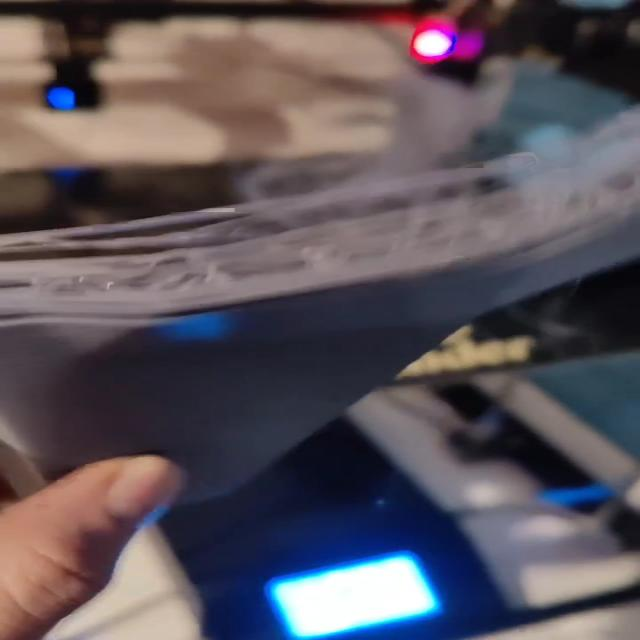spaghetti: (0, 108, 640, 363)
